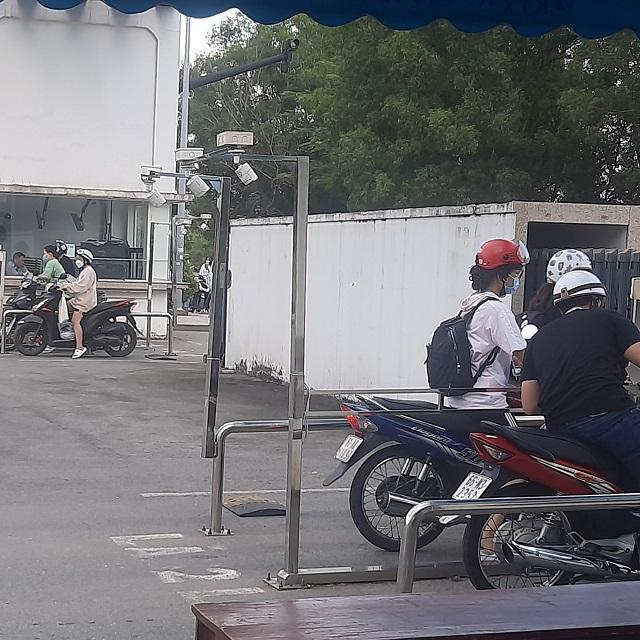Helmet: (478, 238, 528, 296), (552, 270, 610, 314), (542, 244, 594, 284)
